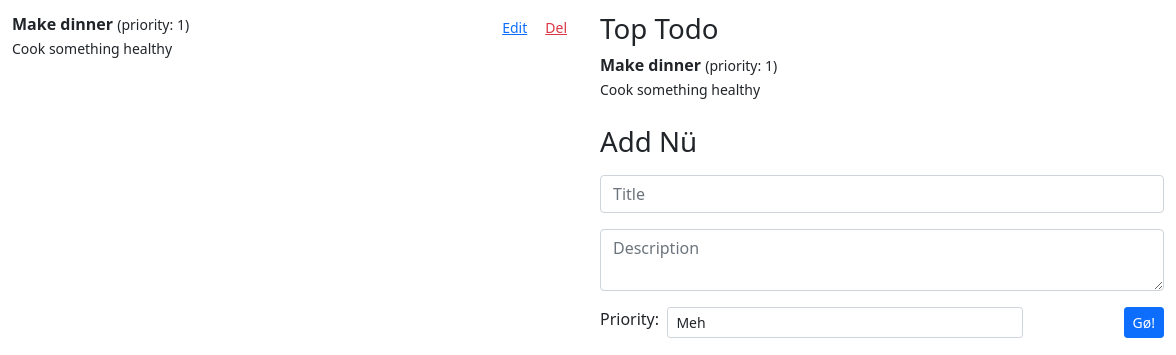
TodoApp component › deletion of a todo
Click the button with class "EditableTodo-delBtn" at (556, 28), box [536,12,576,43]
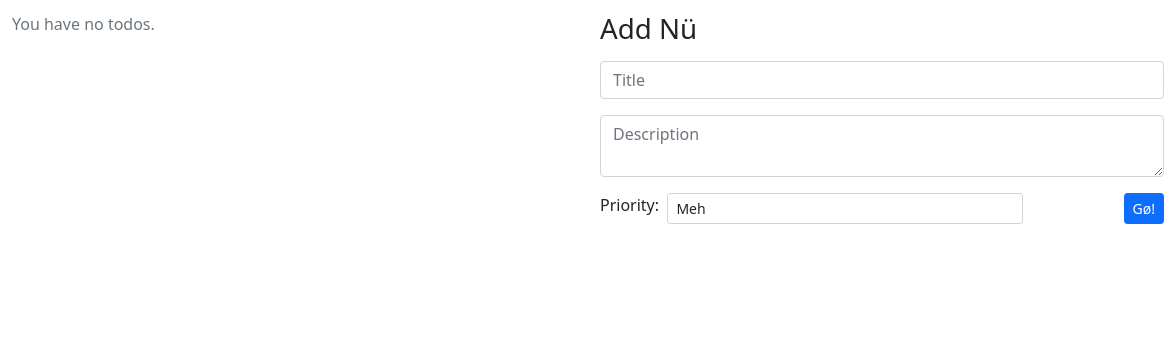
Expected: no elements with class "Todo" are shown
Expected: the text "Make dinner" is gone
